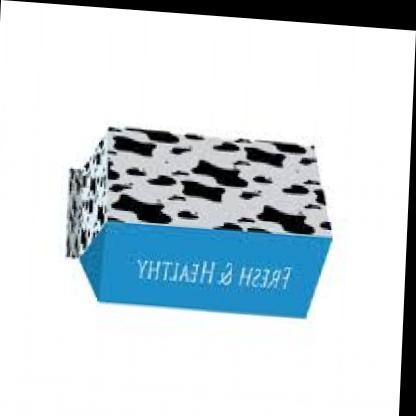trash: (67, 127, 330, 316)
